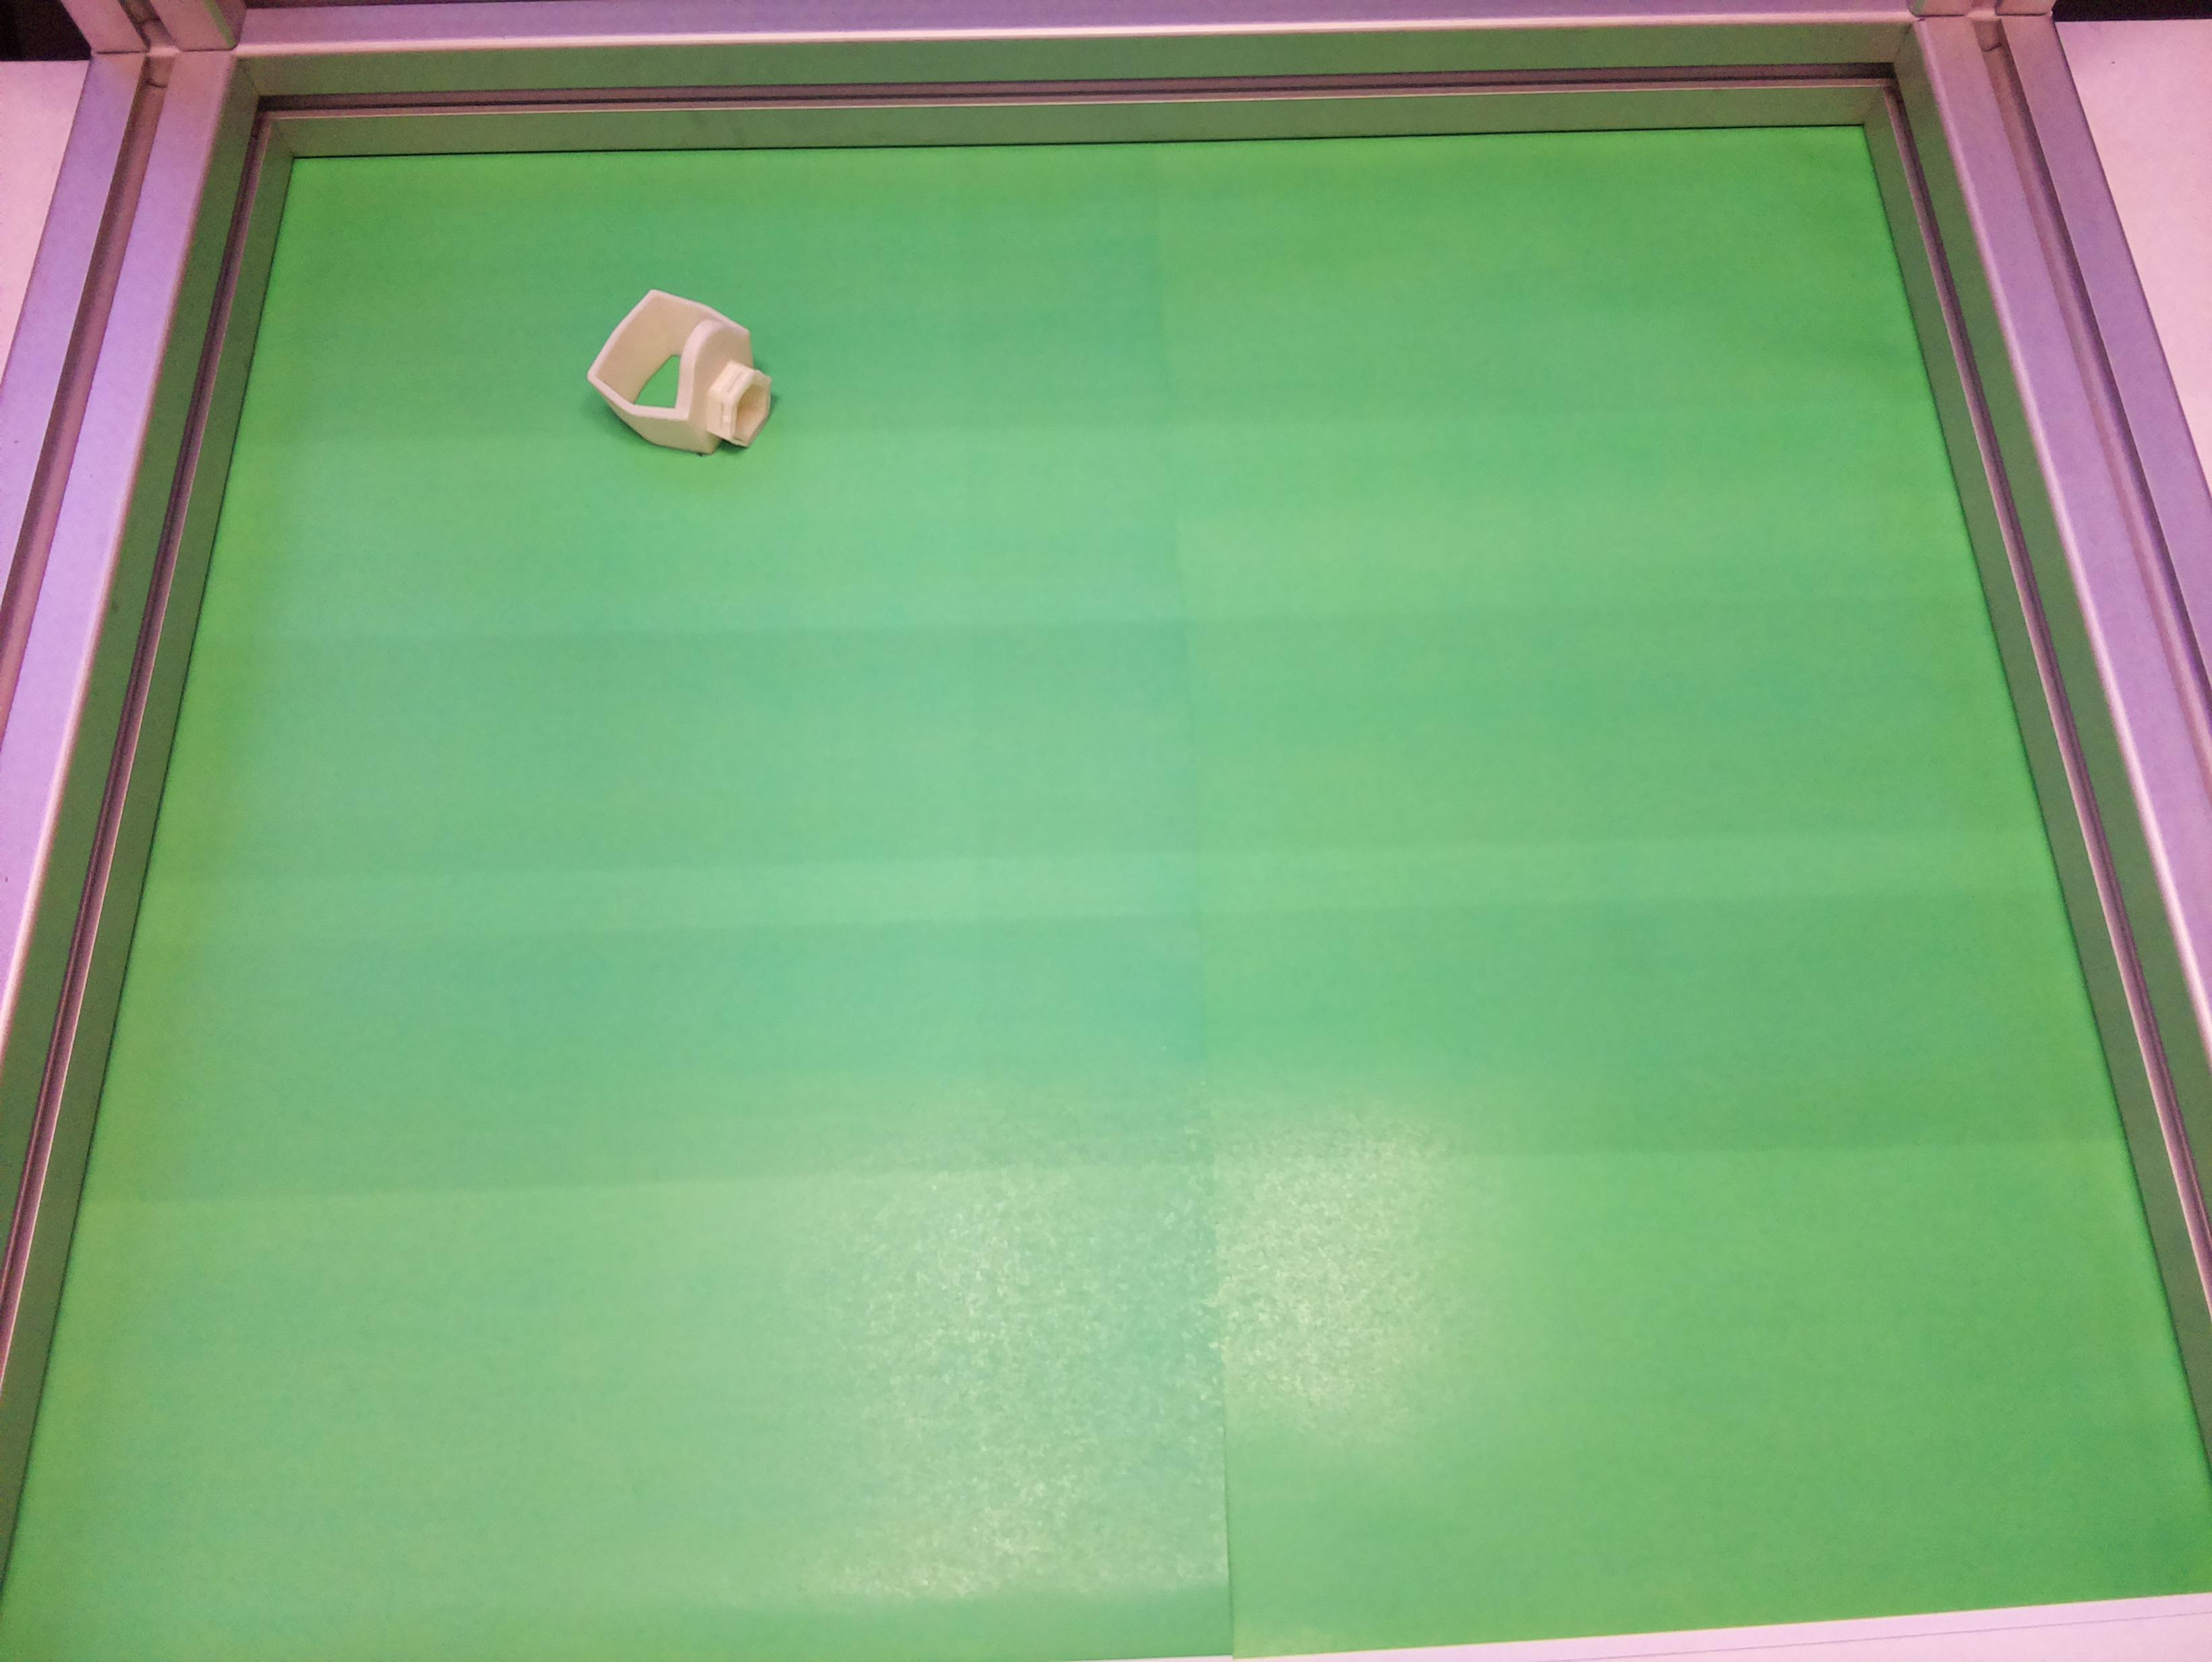tool_holder: (573, 271, 801, 487)
